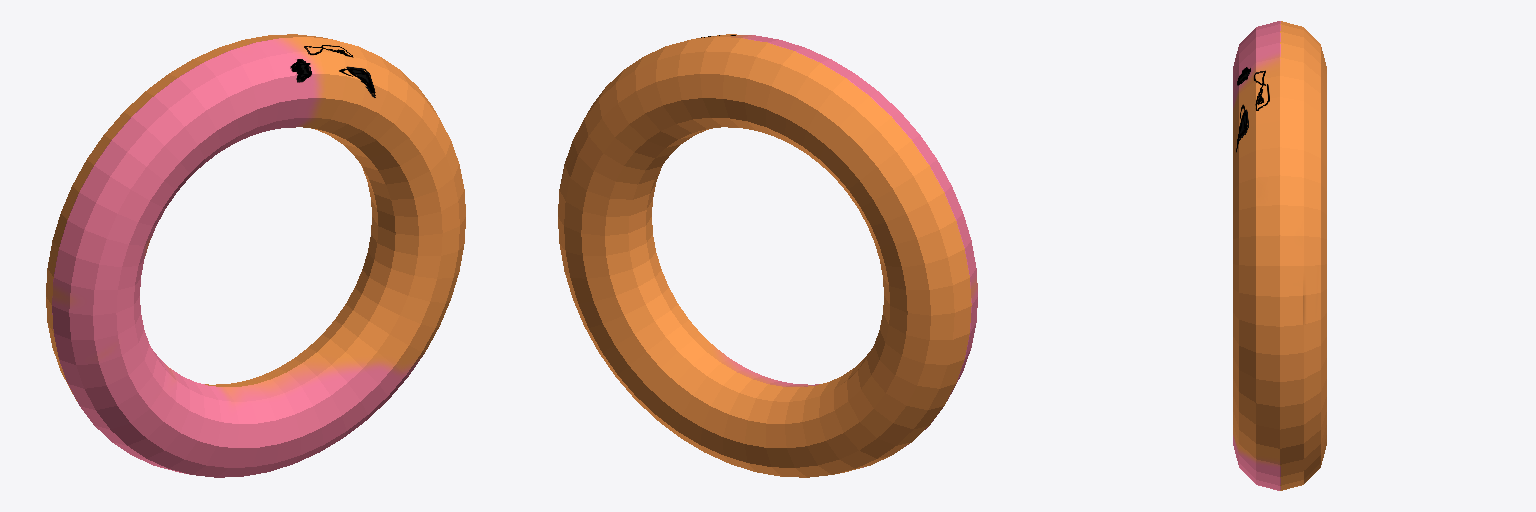
3 renders of one model, left to right at view 1: azimuth 30°, elevation 25°; view 2: azimuth 150°, elevation 25°; view 3: azimuth 270°, elevation 25°, orthographic.
Parts seen in each view (by area): view 1: トーラス; view 2: トーラス; view 3: トーラス.
Boxes of the visible parts, x1,y1,x2,y2 form: トーラス: [46, 34, 465, 477]; トーラス: [558, 34, 977, 477]; トーラス: [1233, 21, 1326, 490].
Bounding box in the file's own units: 2.5 × 2.5 × 0.5.
Materials: 1 (1 with a texture image).